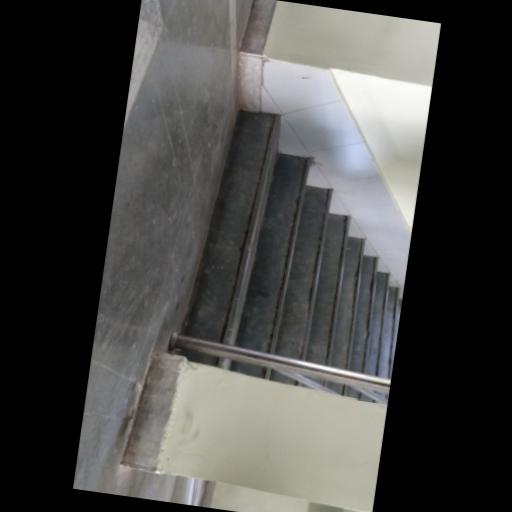stairs: (183, 112, 400, 377)
